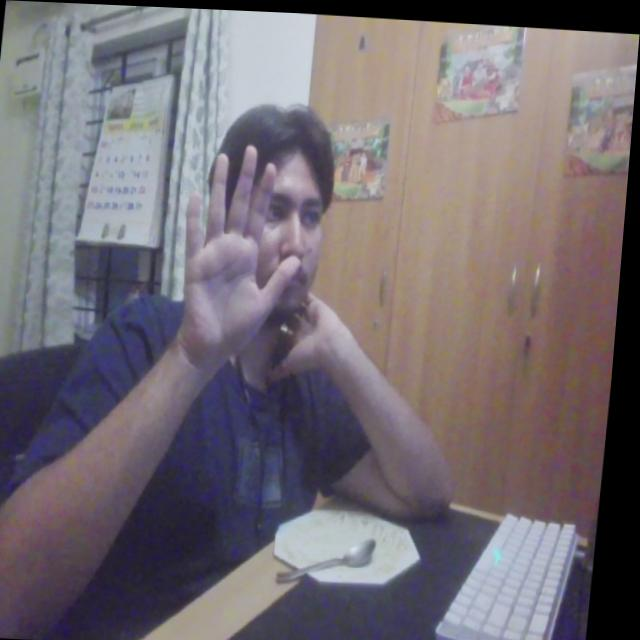hello: (176, 136, 316, 368)
